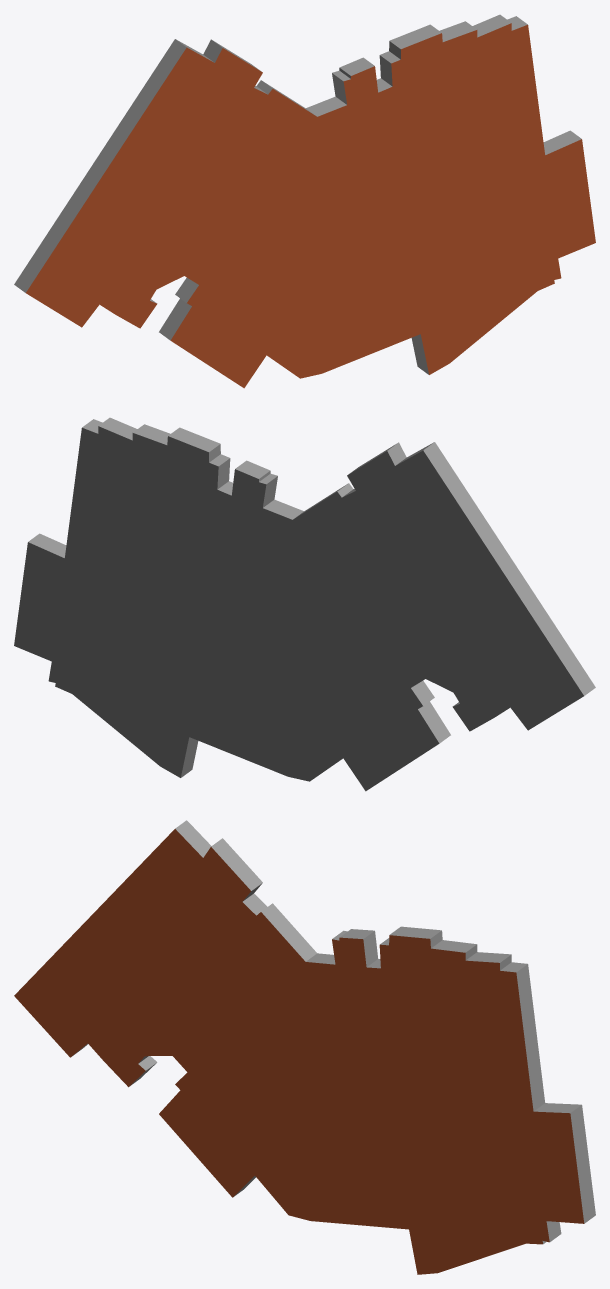
The model's file is construction_0092_assumed_A_Grande_construcao_h6m.obj.
3 renders of one model, top to bottom at view 1: azimuth 30°, elevation 25°; view 2: azimuth 150°, elevation 25°; view 3: azimuth 330°, elevation 25°, orthographic.
Visible parts, largest first — view 1: construction_0092_assumed_A_Grande_construcao; view 2: construction_0092_assumed_A_Grande_construcao; view 3: construction_0092_assumed_A_Grande_construcao.
Part boxes in pixels (x1,y1,x2,y2): construction_0092_assumed_A_Grande_construcao: (14, 14, 595, 388); construction_0092_assumed_A_Grande_construcao: (14, 417, 595, 791); construction_0092_assumed_A_Grande_construcao: (14, 820, 595, 1274).
Bounding box in the file's own units: 169 × 110 × 6.
